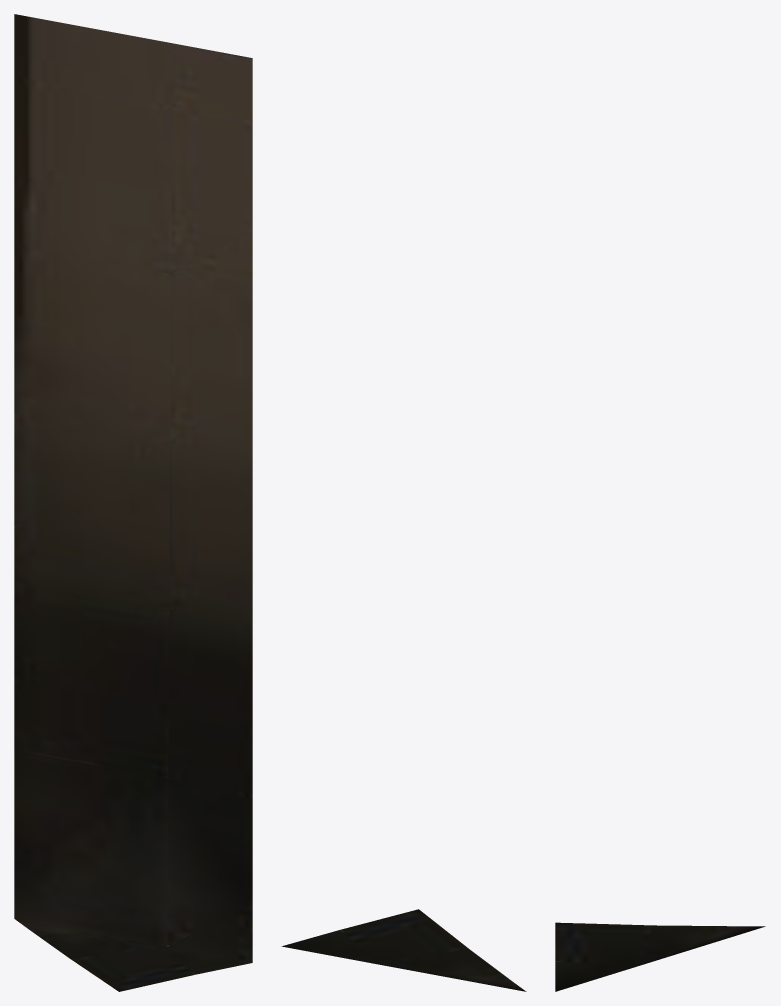
3 views of the same model, side by side, from view 1: azimuth 30°, elevation 25°; view 2: azimuth 210°, elevation 25°; view 3: azimuth 270°, elevation 25° (orthographic). The views are drawn at different scales.
Bounding box in the file's own units: 0.3137 × 2.03 × 0.4266.
Materials: 1 (1 with a texture image).
